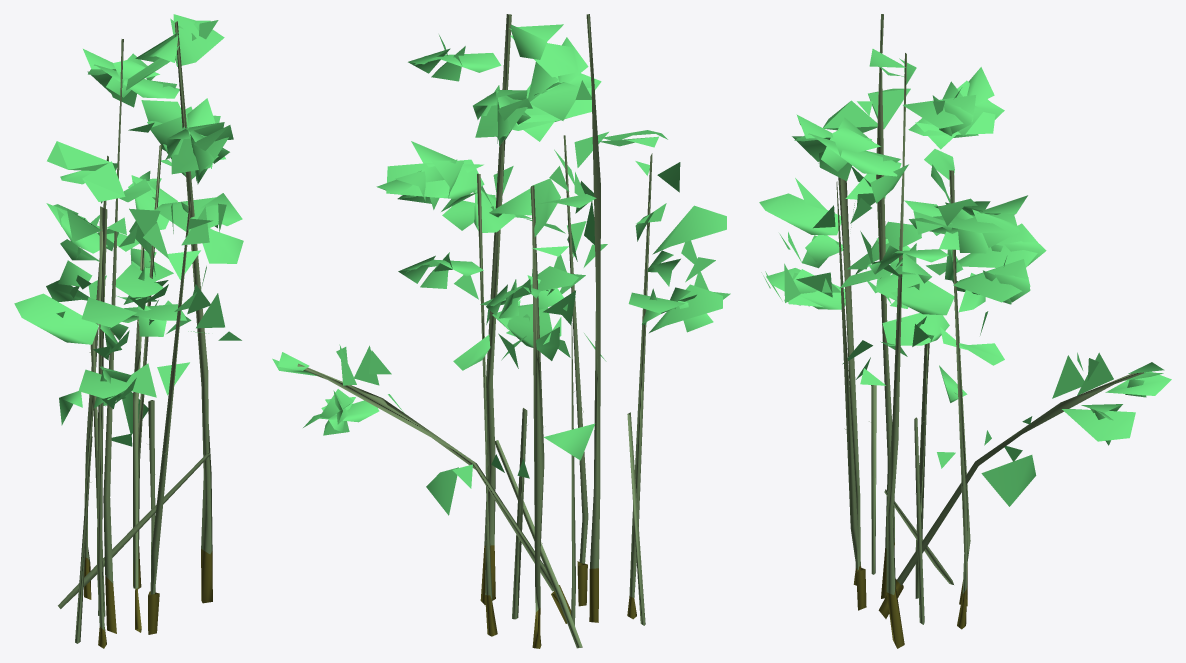
The model's file is Bamboo_Cluster1_LOD2.fbx.
The picture shows the model from 3 angles, left to right: view 1: azimuth 30°, elevation 25°; view 2: azimuth 150°, elevation 25°; view 3: azimuth 270°, elevation 25°; orthographic projection. The views are drawn at different scales.
Visible parts, largest first — view 1: Bamboo_Cluster1_LOD2; view 2: Bamboo_Cluster1_LOD2; view 3: Bamboo_Cluster1_LOD2.
Part boxes in pixels (x1,y1,x2,y2): Bamboo_Cluster1_LOD2: (14, 14, 243, 648); Bamboo_Cluster1_LOD2: (272, 14, 730, 648); Bamboo_Cluster1_LOD2: (759, 14, 1171, 648).
Bounding box in the file's own units: 1412 × 2973 × 1868.
